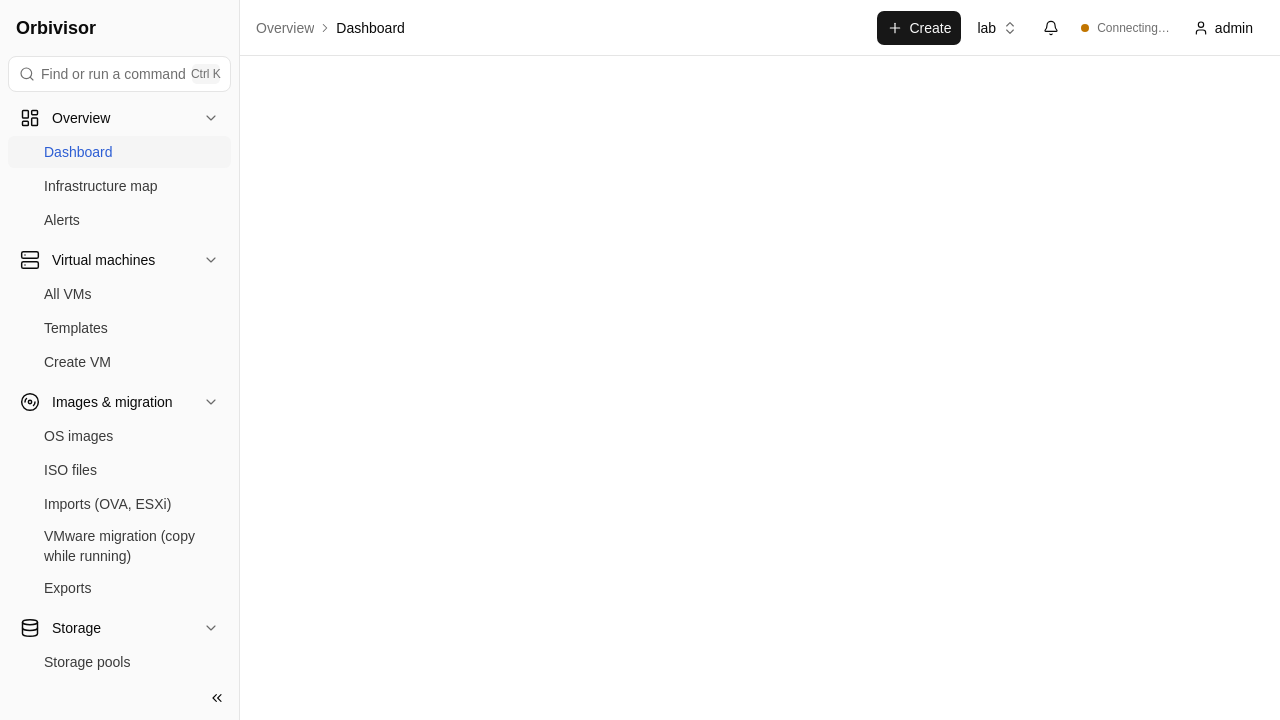
finds a VM by its static IP, MAC and CIDR, and a node by its address
This screenshot has width=1280, height=720.
Type keys "{Meta>}k{/Meta}"
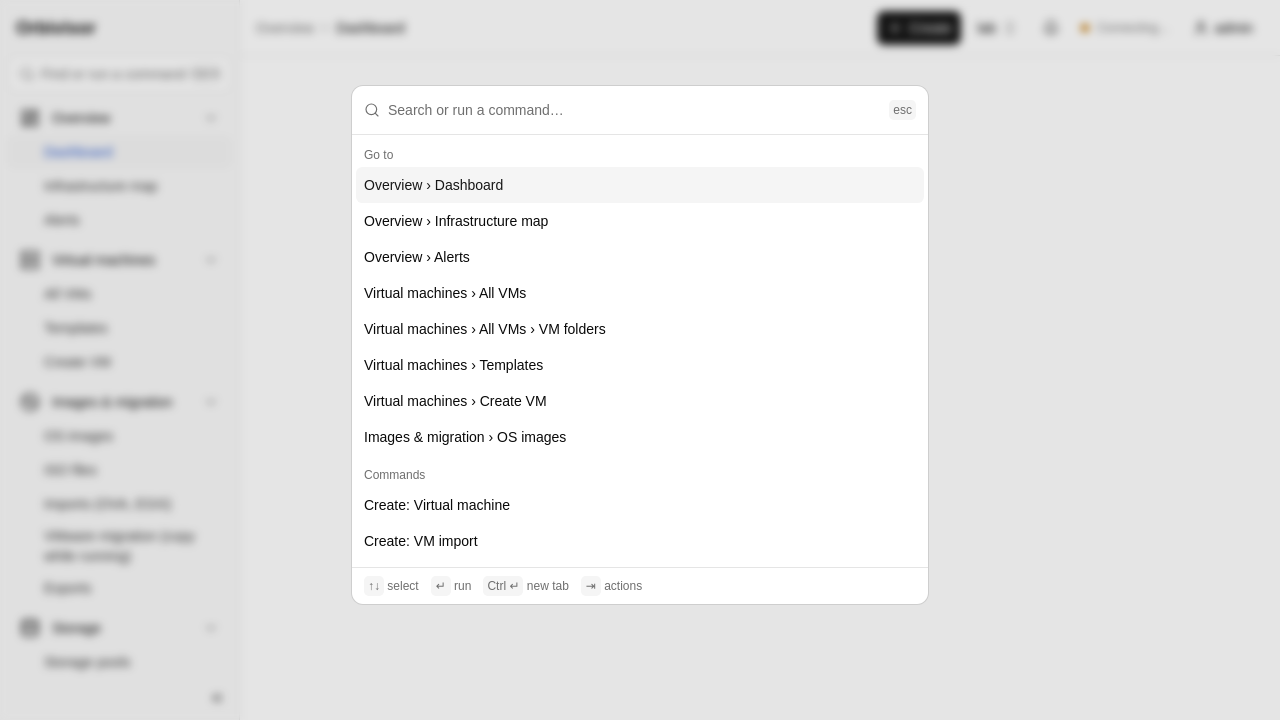
Type "10.0.0.21" into the dropdown named "Command palette" at x=635, y=110, box x1=388 y1=86 x2=881 y2=134
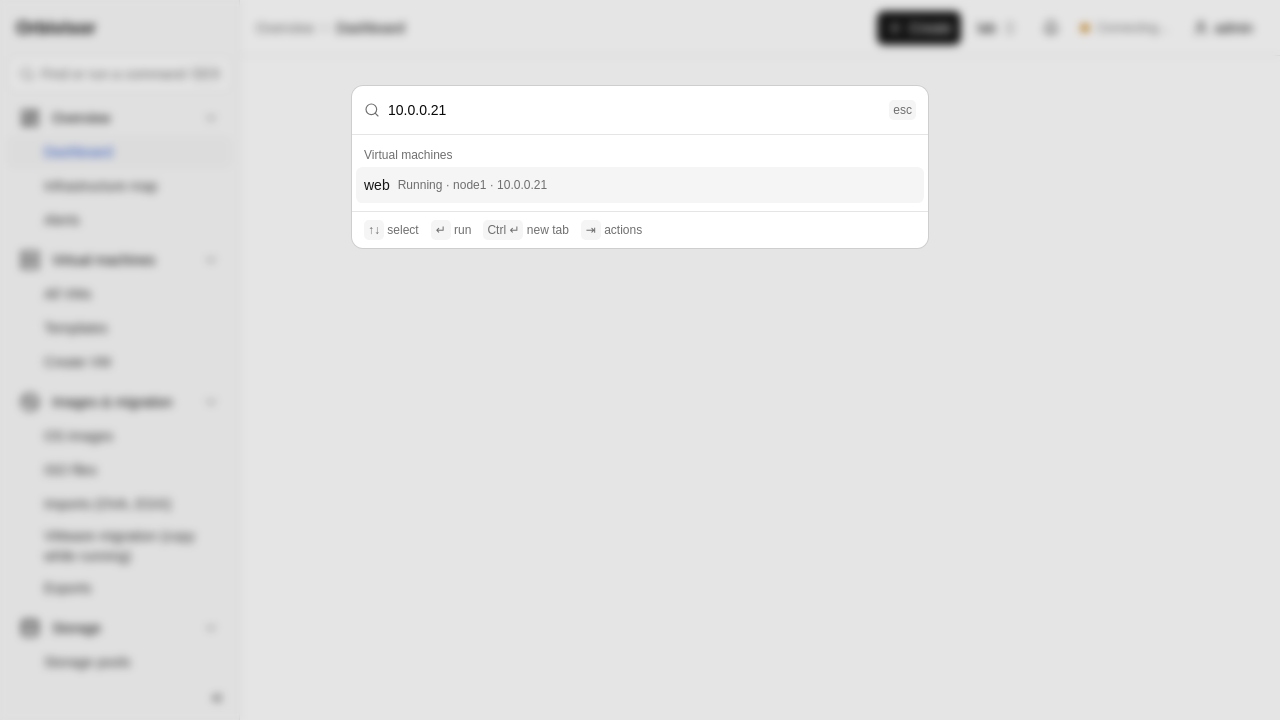
Expected: the options read "webRunning · node1 · 10.0.0.21", in this order, x1=356 y1=167 x2=924 y2=203
Replace the text in the dropdown named "Command palette" with "52:54:00:aa" at x=635, y=110, box x1=388 y1=86 x2=881 y2=134
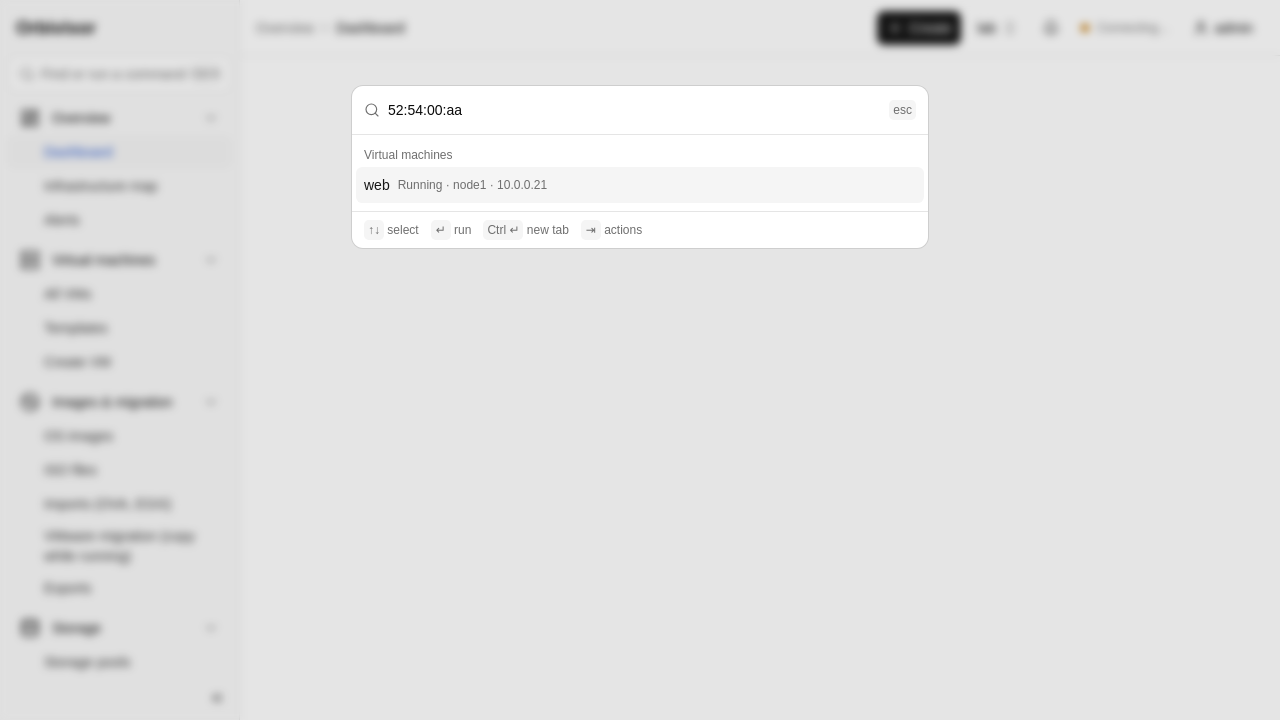
Expected: the option "web Running · node1 · 10.0.0.21" is shown, x1=356 y1=167 x2=924 y2=203
Replace the text in the dropdown named "Command palette" with "10.0.0.0/24" at x=635, y=110, box x1=388 y1=86 x2=881 y2=134
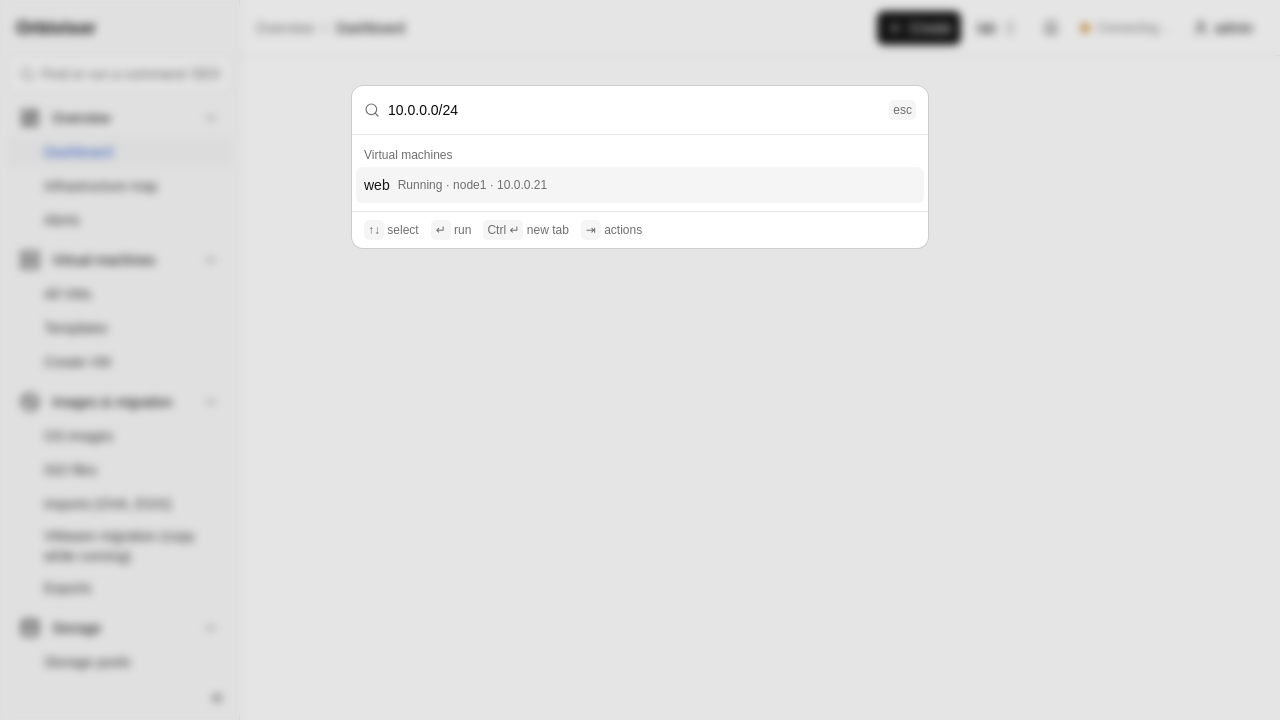
Expected: the option "web Running · node1 · 10.0.0.21" is shown, x1=356 y1=167 x2=924 y2=203
Replace the text in the dropdown named "Command palette" with "10.0.9.2" at x=635, y=110, box x1=388 y1=86 x2=881 y2=134
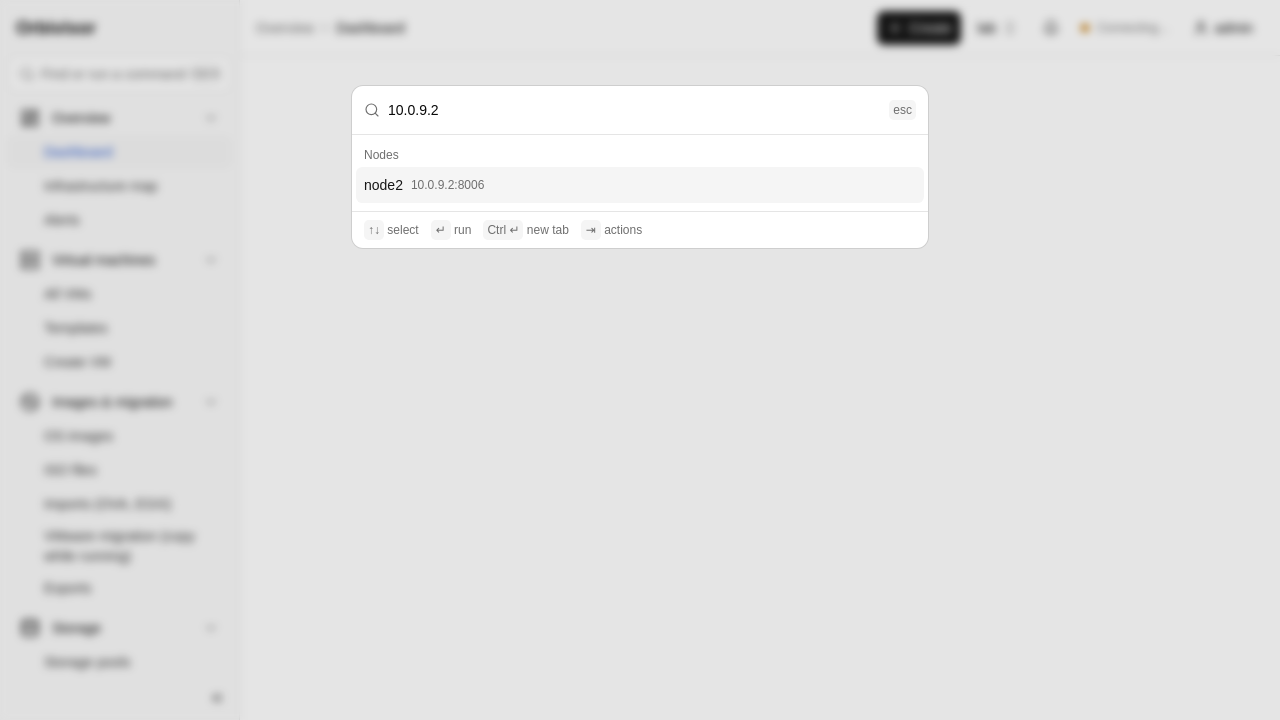
Expected: the option "node2 10.0.9.2:8006" is shown, x1=356 y1=167 x2=924 y2=203
